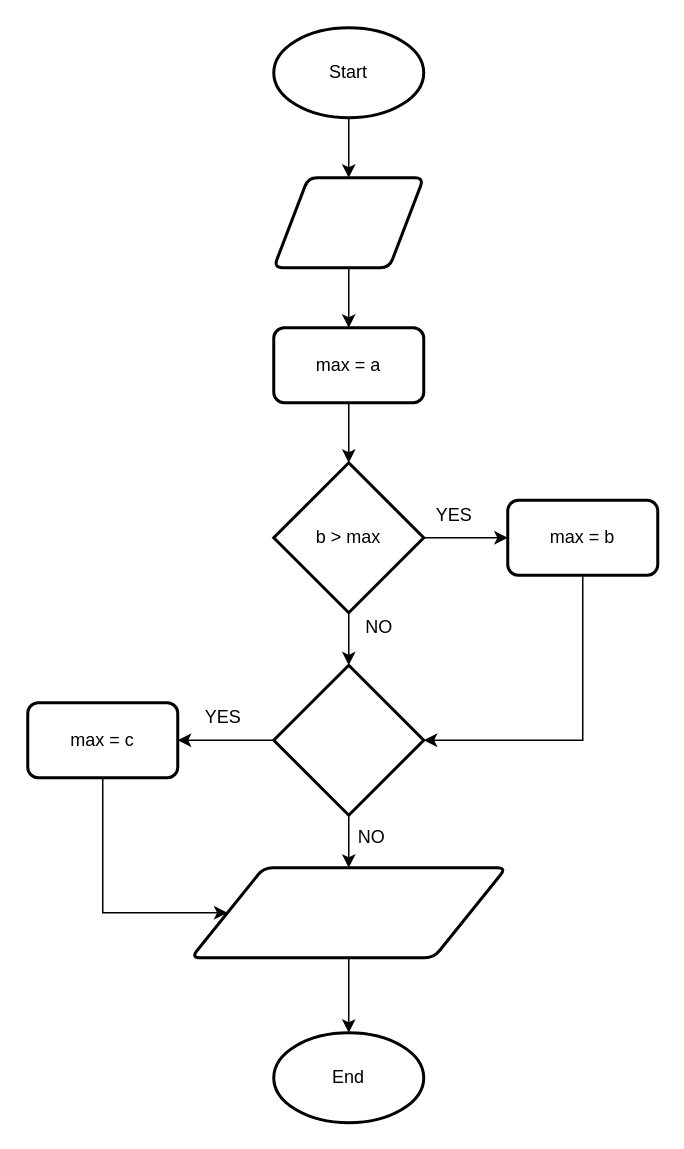
Some shapes in this 684 by 1149 pixel diagram are drawn without their labels. Here are the shapes that lost their labels. From the top down, the centre of each, then its label:
the point at 348,222: Input a, b, c
the point at 348,739: c > max
the point at 348,912: Ouput Hiển thị giá trị max
